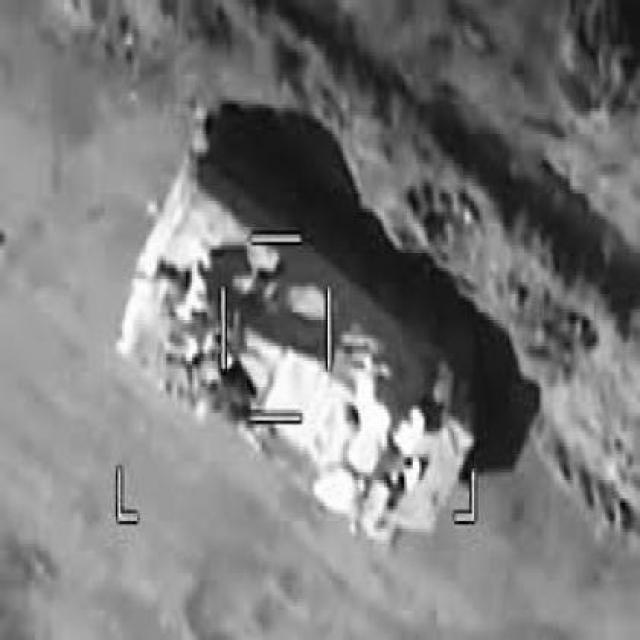tank: (118, 100, 482, 551)
